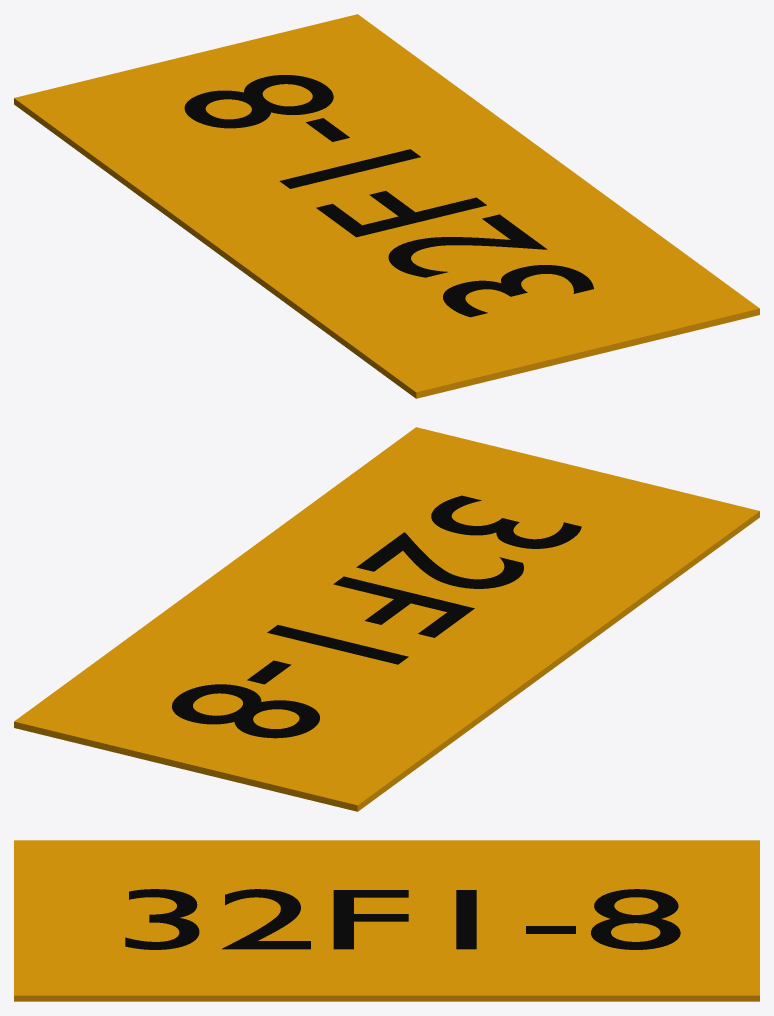
The picture shows the model from 3 angles, top to bottom: view 1: azimuth 30°, elevation 25°; view 2: azimuth 150°, elevation 25°; view 3: azimuth 270°, elevation 25°; orthographic projection. The views are drawn at different scales.
Parts seen in each view (by area): view 1: Plane, Text.001; view 2: Plane, Text.001; view 3: Plane, Text.001.
Part boxes in pixels (left/top/right/bottom): Plane: left=14, top=14, right=759, bottom=398; Text.001: left=184, top=75, right=593, bottom=317; Plane: left=14, top=427, right=759, bottom=811; Text.001: left=172, top=495, right=581, bottom=738; Plane: left=14, top=840, right=759, bottom=1001; Text.001: left=125, top=889, right=680, bottom=949.
Size of the model in its own units: 173 by 3.74 by 350.
